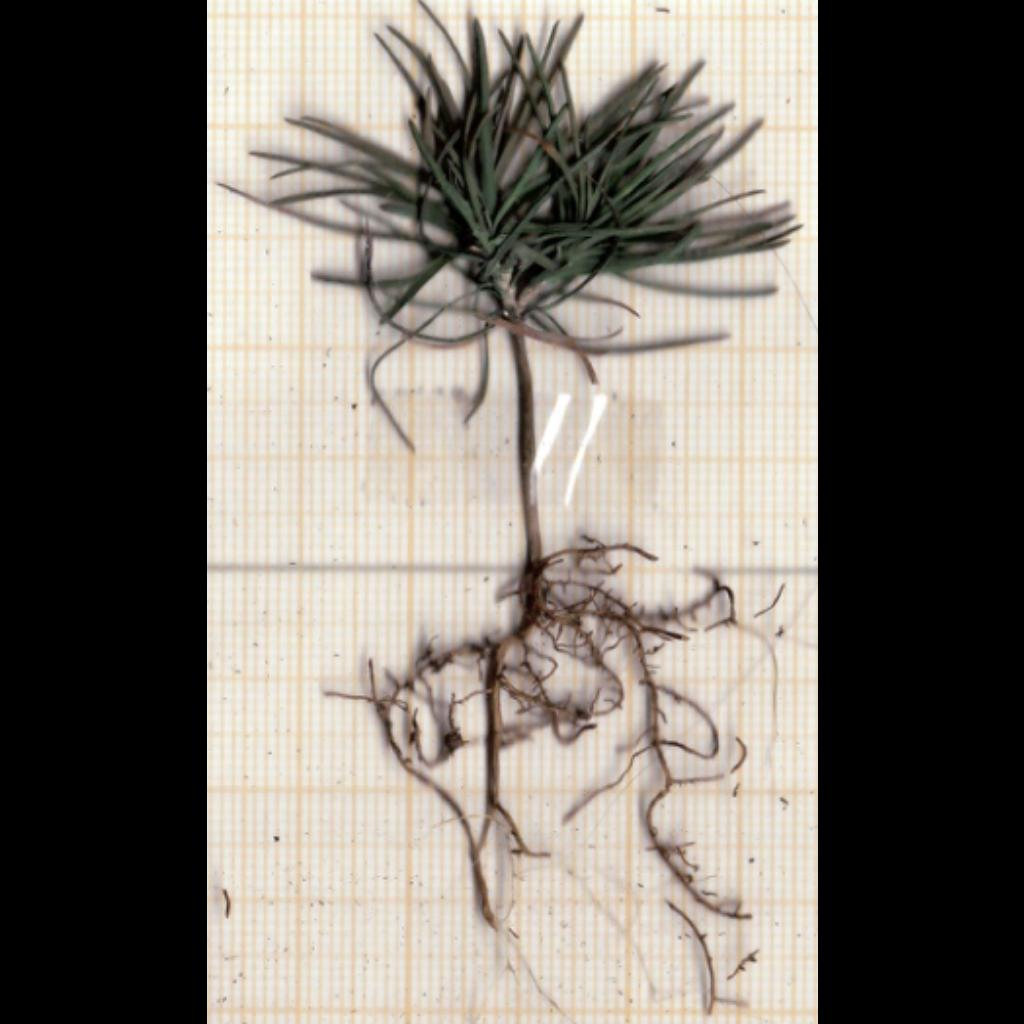flowerCedr: (219, 4, 800, 414)
rootCedr: (360, 540, 743, 930)
stemCedr: (510, 333, 542, 568)
